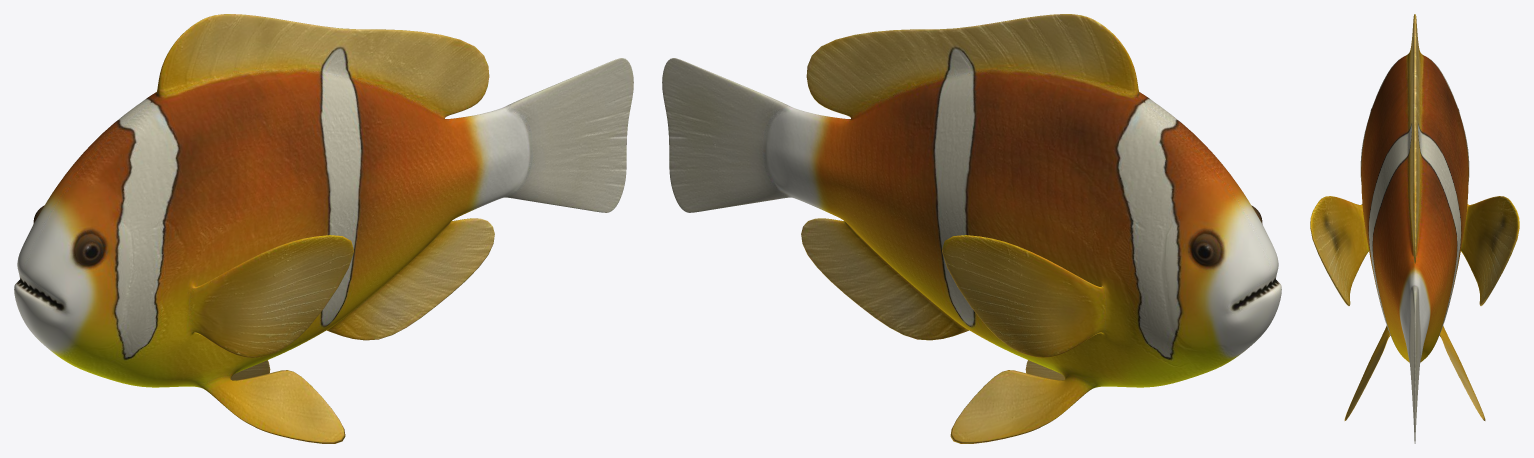
The model's file is fish_small.glb.
3 views of the same model, side by side, from view 1: azimuth 30°, elevation 25°; view 2: azimuth 150°, elevation 25°; view 3: azimuth 270°, elevation 25° (orthographic). The views are drawn at different scales.
Parts seen in each view (by area): view 1: 12265_Fish_v1_L2_01___12265_Fish_0; view 2: 12265_Fish_v1_L2_01___12265_Fish_0; view 3: 12265_Fish_v1_L2_01___12265_Fish_0.
Part boxes in pixels (x1,y1,x2,y2): 12265_Fish_v1_L2_01___12265_Fish_0: (14,14,633,443); 12265_Fish_v1_L2_01___12265_Fish_0: (662,14,1281,443); 12265_Fish_v1_L2_01___12265_Fish_0: (1310,14,1519,443).
Bounding box in the file's own units: 28.7 × 18.67 × 9.69.
Materials: 1 (1 with a texture image).
